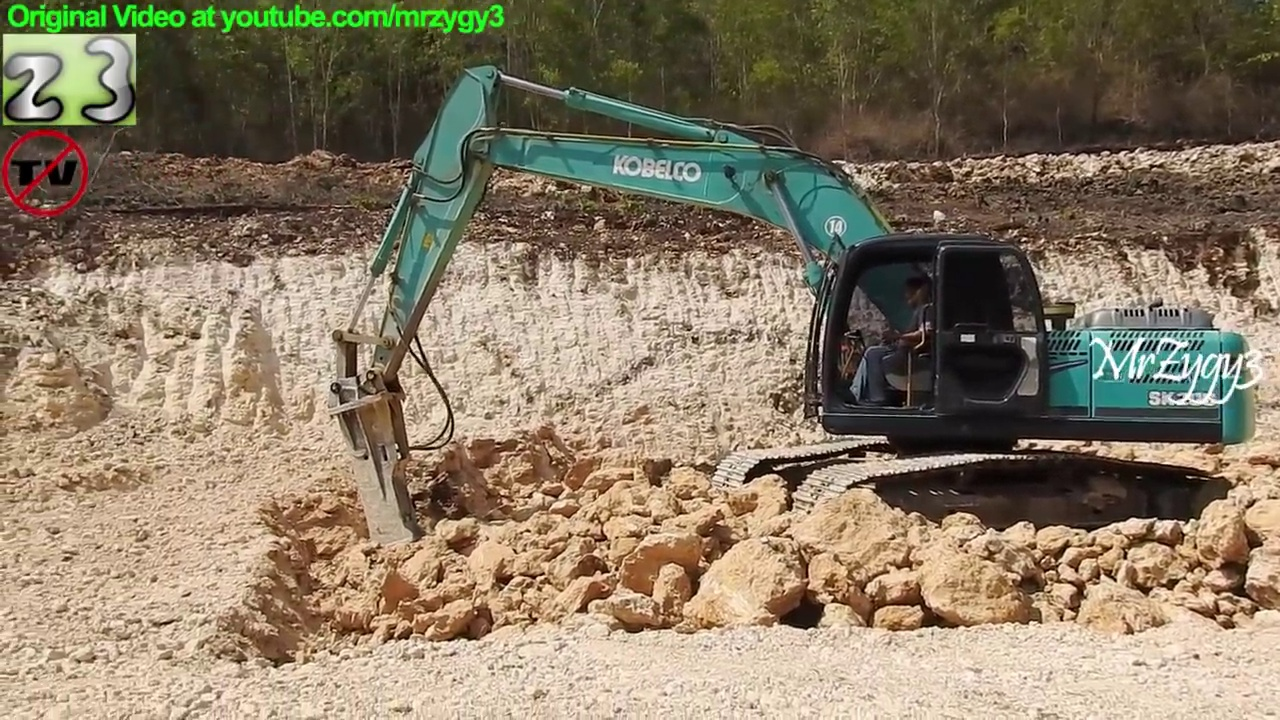excavator breaker: (324, 58, 1261, 574)
